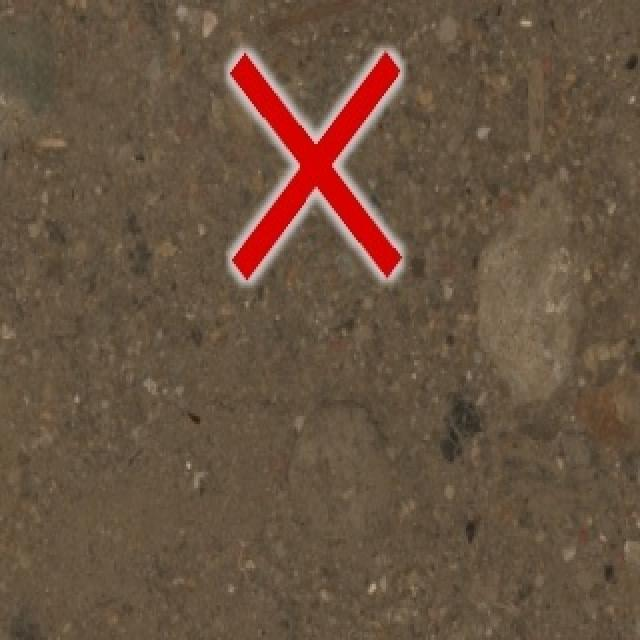x_marker: (229, 52, 399, 279)
